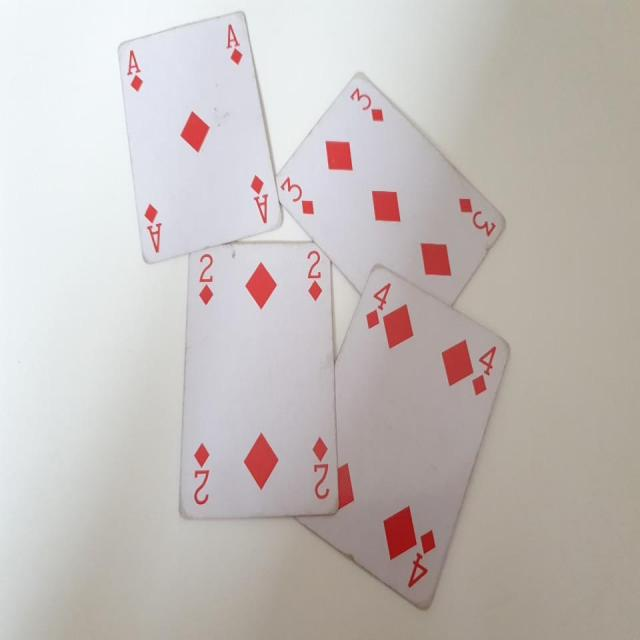2 Diamonds: (167, 235, 339, 518)
3 Diamonds: (269, 70, 506, 310)
4 Diamonds: (302, 266, 510, 618)
A Diamonds: (114, 4, 283, 273)
